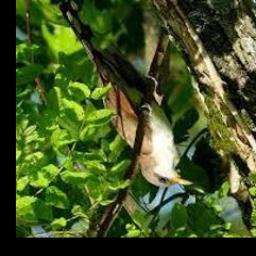Cuckoo: (61, 0, 193, 188)
